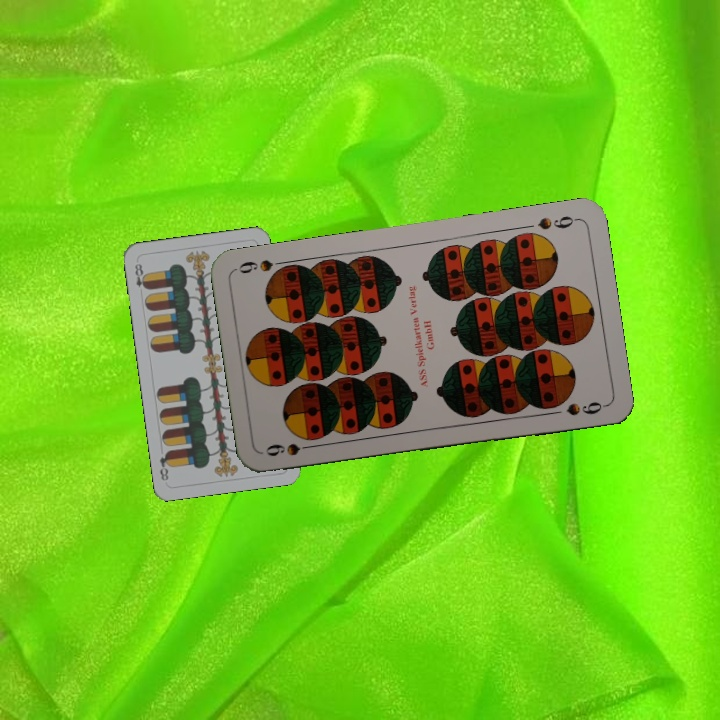E8: (131, 259, 150, 292)
S9: (262, 439, 320, 459), (533, 212, 580, 233)
